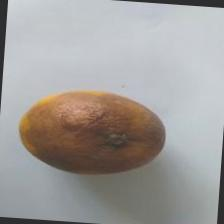Orange Rotten: (5, 80, 172, 186)
